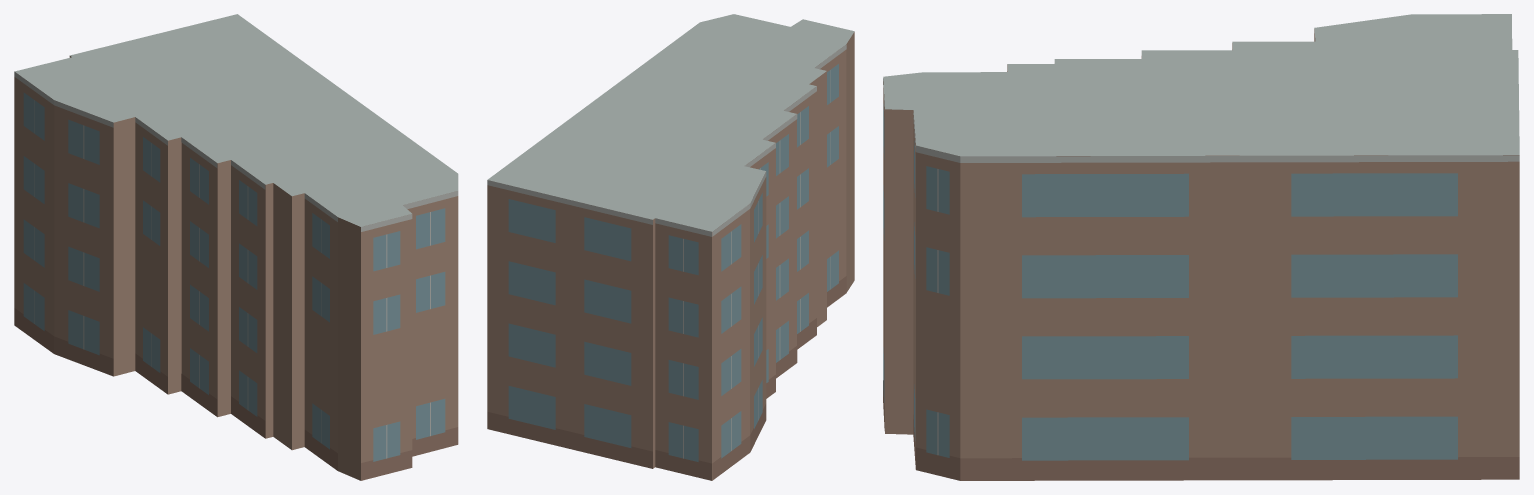
File: survey-upis-33038597.glb
3 renders of one model, left to right at view 1: azimuth 30°, elevation 25°; view 2: azimuth 150°, elevation 25°; view 3: azimuth 270°, elevation 25°, orthographic. The views are drawn at different scales.
Visible parts, largest first — view 1: survey-upis-33038597.tmp; view 2: survey-upis-33038597.tmp; view 3: survey-upis-33038597.tmp.
Part boxes in pixels (box(x1,y1,x2,y2)): survey-upis-33038597.tmp: box(14, 14, 458, 480); survey-upis-33038597.tmp: box(487, 14, 854, 480); survey-upis-33038597.tmp: box(883, 14, 1519, 480).
Size of the model in its own units: 11.11 by 11.8 by 20.99.
